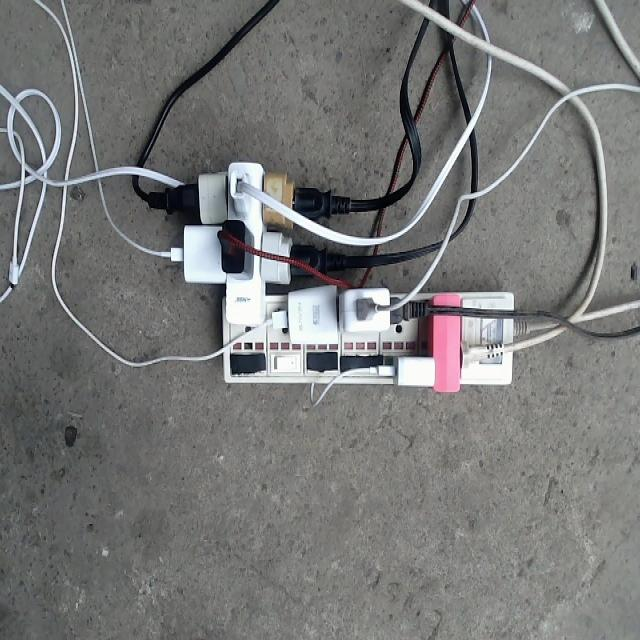-: (169, 159, 520, 393)
